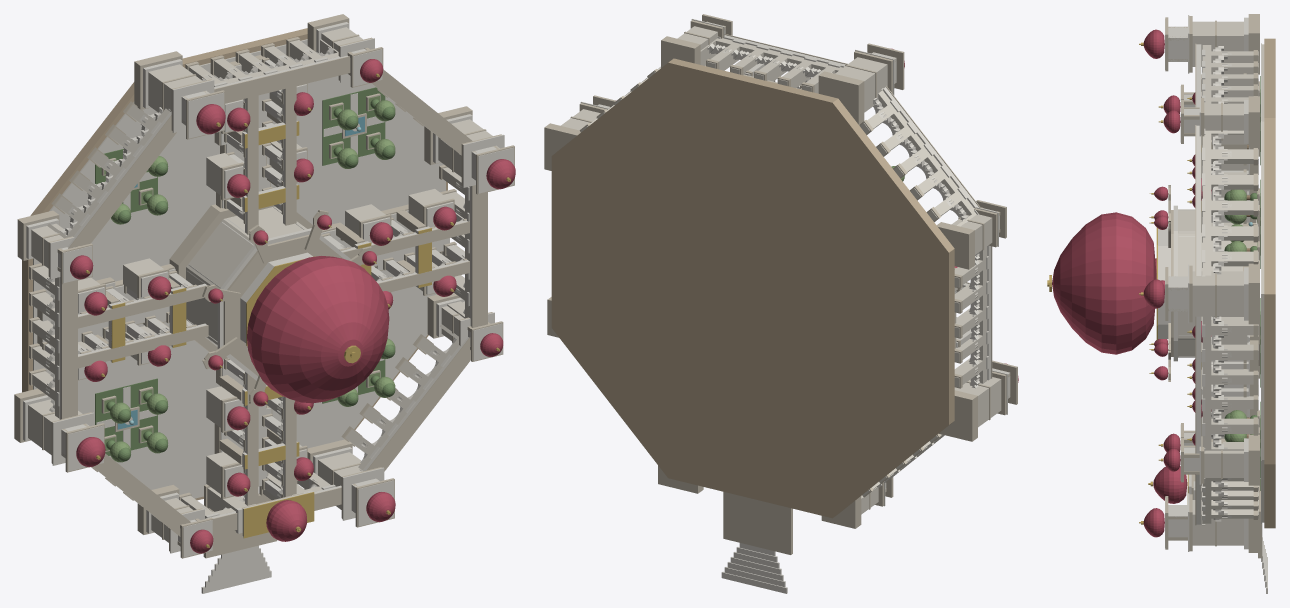
The model's file is arabian_palace_v11.glb.
3 views of the same model, side by side, from view 1: azimuth 30°, elevation 25°; view 2: azimuth 150°, elevation 25°; view 3: azimuth 270°, elevation 25° (orthographic). The views are drawn at different scales.
Visible parts, largest first — view 1: Thin ivory foundation trim, Great central crimson dome, Central keep main body, Main sandstone foundation, Central keep roof terrace, Outer wall stone roof trim_7, Outer wall stone roof trim_3, Outer wall stone roof trim, Outer wall stone roof trim_4, Outer wall stone roof trim_2, Outer wall stone roof trim_1, Outer wall stone roof trim_5 (+41 smaller); view 2: Main sandstone foundation, Gate entrance landing, Main tower 3 sandstone base, Main tower 3 shaft, Main tower 5 sandstone base, Secondary tower 4 sandstone base, Main tower 5 shaft, Secondary tower 2 sandstone base, Main tower 1 sandstone base, Secondary tower 4 shaft, Outer wall upper band_3, Secondary tower 6 sandstone base (+1 smaller); view 3: Great central crimson dome, Main sandstone foundation, Central keep main body, Main tower 1 shaft, Main tower 3 shaft, Main ivory foundation, Main tower 7 shaft, Secondary tower 2 shaft, Secondary tower 8 shaft, Gate crimson dome, Great dome ivory drum, Outer wall upper band_1 (+37 smaller).
Boxes of the visible parts, <box> form: Thin ivory foundation trim: <box>33,39,445,498</box>; Great central crimson dome: <box>247,256,389,403</box>; Central keep main body: <box>186,206,306,346</box>; Main sandstone foundation: <box>22,28,447,500</box>; Central keep roof terrace: <box>223,234,343,376</box>; Outer wall stone roof trim_7: <box>366,337,470,471</box>; Outer wall stone roof trim_3: <box>68,115,176,248</box>; Outer wall stone roof trim: <box>471,185,487,327</box>; Outer wall stone roof trim_4: <box>61,280,77,419</box>; Outer wall stone roof trim_2: <box>214,56,350,103</box>; Outer wall stone roof trim_1: <box>371,69,472,155</box>; Outer wall stone roof trim_5: <box>93,453,190,536</box>; Main sandstone foundation: <box>551,58,954,518</box>; Gate entrance landing: <box>723,492,792,554</box>; Main tower 3 sandstone base: <box>818,71,864,125</box>; Main tower 3 shaft: <box>835,57,887,112</box>; Main tower 5 sandstone base: <box>939,390,977,441</box>; Secondary tower 4 sandstone base: <box>936,222,974,269</box>; Main tower 5 shaft: <box>954,377,1001,427</box>; Secondary tower 2 sandstone base: <box>661,36,700,67</box>; Main tower 1 sandstone base: <box>544,123,580,170</box>; Secondary tower 4 shaft: <box>952,214,992,254</box>; Outer wall upper band_3: <box>883,87,978,208</box>; Secondary tower 6 sandstone base: <box>821,496,861,528</box>; Great central crimson dome: <box>1052,212,1156,354</box>; Main sandstone foundation: <box>1264,38,1275,528</box>; Central keep main body: <box>1178,209,1242,357</box>; Main tower 1 shaft: <box>1192,271,1243,316</box>; Main tower 3 shaft: <box>1192,21,1243,66</box>; Main ivory foundation: <box>1262,44,1264,522</box>; Main tower 7 shaft: <box>1192,500,1243,545</box>; Secondary tower 2 shaft: <box>1204,103,1243,139</box>; Secondary tower 8 shaft: <box>1204,442,1243,477</box>; Gate crimson dome: <box>1153,466,1187,503</box>; Great dome ivory drum: <box>1158,228,1170,338</box>; Outer wall upper band_1: <box>1196,125,1201,275</box>.
Size of the model in its own units: 171 by 200 by 80.15.
